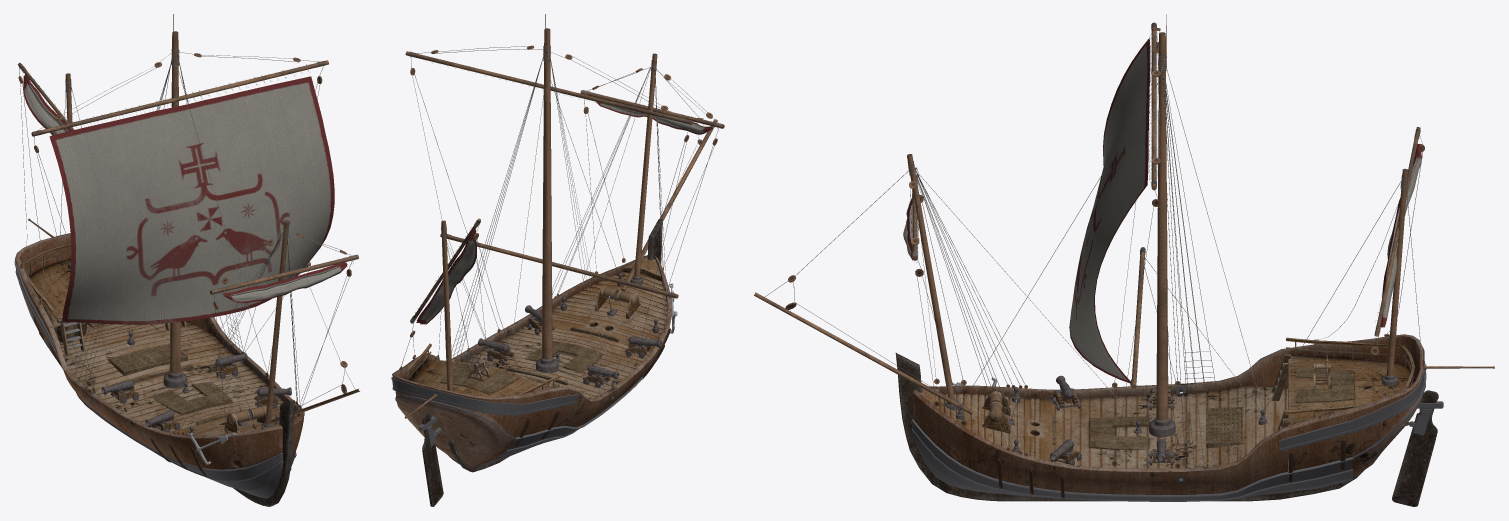
3 views of the same model, side by side, from view 1: azimuth 30°, elevation 25°; view 2: azimuth 150°, elevation 25°; view 3: azimuth 270°, elevation 25° (orthographic). The views are drawn at different scales.
Parts seen in each view (by area): view 1: SailAnim001, PoopDeck_lo, Hull_lo, Sail002, UpperDeck_lo, MidBoom, Keel, UpperHatch001_lo, Hatch, Foremast, MidMast, Sail001 (+15 smaller); view 2: Hull_lo, PoopDeck_lo, MidMast, ClimbingRigging, HullBackDetailPlate, UpperDeck_lo, Sail001, MidBoom, Rudder, ForeMastSideRigging, Foremast, MidBoom001 (+16 smaller); view 3: Hull_lo, PoopDeck_lo, SailAnim001, UpperDeck_lo, MidMast, Keel, Rudder, ClimbingRigging, ForeMastSideRigging, HullBackDetailPlate, Foremast, UpperHatch001_lo (+8 smaller).
Part boxes in pixels (x1=…): SailAnim001: x1=49, y1=76, x2=334, y2=324; PoopDeck_lo: x1=56, y1=321, x2=298, y2=435; Hull_lo: x1=15, y1=233, x2=304, y2=498; Sail002: x1=222, y1=262, x2=347, y2=303; UpperDeck_lo: x1=29, y1=259, x2=70, y2=327; MidBoom: x1=31, y1=60, x2=328, y2=136; Keel: x1=233, y1=400, x2=294, y2=506; UpperHatch001_lo: x1=151, y1=382, x2=232, y2=414; Hatch: x1=108, y1=344, x2=187, y2=375; Foremast: x1=265, y1=220, x2=289, y2=424; MidMast: x1=169, y1=31, x2=180, y2=373; Sail001: x1=23, y1=74, x2=71, y2=135; Hull_lo: x1=392, y1=255, x2=671, y2=467; PoopDeck_lo: x1=464, y1=257, x2=667, y2=399; MidMast: x1=542, y1=28, x2=552, y2=359; ClimbingRigging: x1=451, y1=55, x2=613, y2=397; HullBackDetailPlate: x1=391, y1=377, x2=578, y2=415; UpperDeck_lo: x1=409, y1=359, x2=544, y2=397; Sail001: x1=416, y1=229, x2=476, y2=324; MidBoom: x1=405, y1=51, x2=693, y2=124; Rudder: x1=419, y1=411, x2=443, y2=506; ForeMastSideRigging: x1=552, y1=67, x2=667, y2=328; Foremast: x1=634, y1=53, x2=657, y2=277; MidBoom001: x1=440, y1=234, x2=678, y2=298; Hull_lo: x1=912, y1=334, x2=1423, y2=501; PoopDeck_lo: x1=919, y1=387, x2=1287, y2=468; SailAnim001: x1=1069, y1=38, x2=1150, y2=383; UpperDeck_lo: x1=1288, y1=354, x2=1409, y2=425; MidMast: x1=1156, y1=32, x2=1168, y2=420; Keel: x1=895, y1=353, x2=1363, y2=501; Rudder: x1=1392, y1=390, x2=1443, y2=506; ClimbingRigging: x1=1162, y1=65, x2=1215, y2=470; ForeMastSideRigging: x1=914, y1=169, x2=1026, y2=452; HullBackDetailPlate: x1=1280, y1=349, x2=1424, y2=450; Foremast: x1=907, y1=154, x2=954, y2=400; UpperHatch001_lo: x1=1090, y1=416, x2=1148, y2=449.
Bounding box in the file's own units: 138 × 193 × 265.
Materials: 5 (5 with a texture image).
